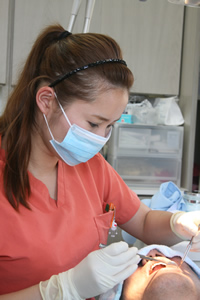mask: (49, 124, 111, 166)
